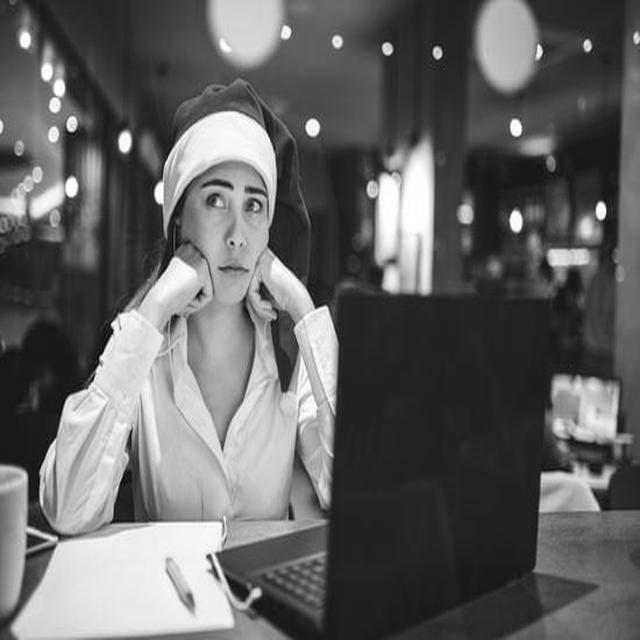Sadness: (183, 162, 269, 306)
